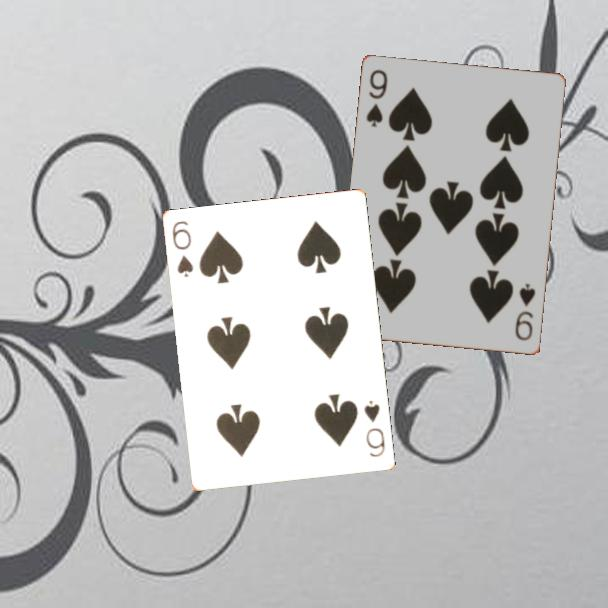s06: (169, 217, 197, 281), (361, 397, 388, 460)
s09: (363, 66, 391, 130), (512, 280, 539, 344)
